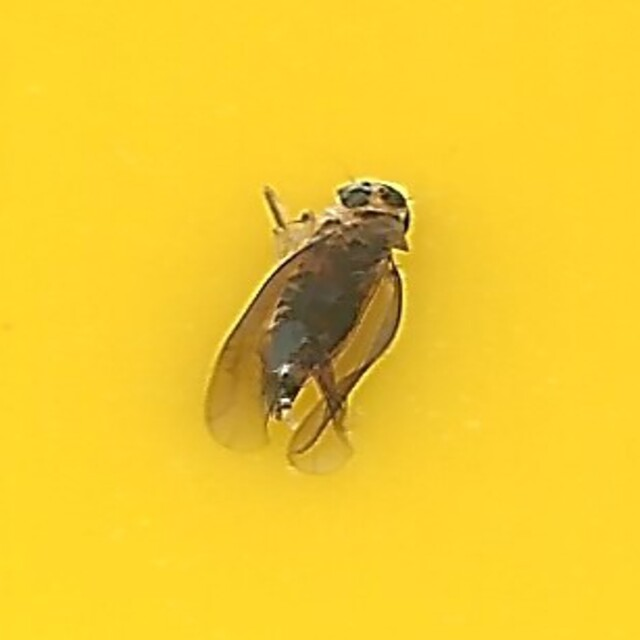Hemiptera: (208, 174, 432, 466)
